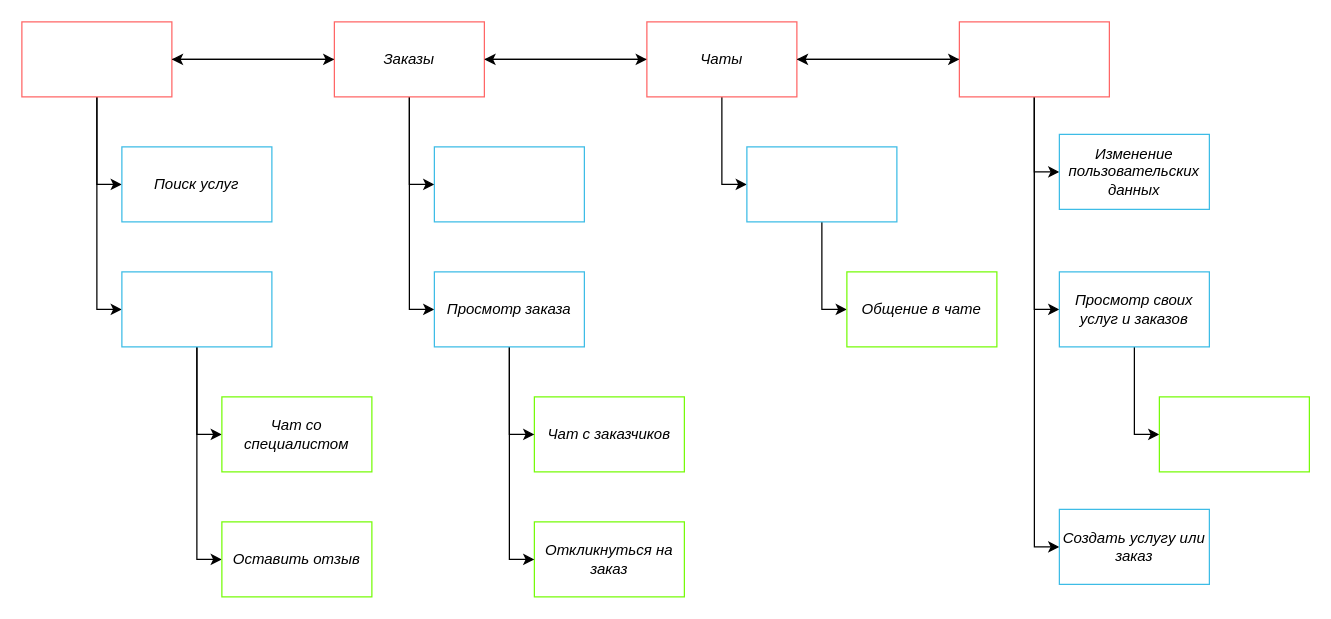
The diagram is 1331 pixels wide and 619 high, and some of its shapes have lost their labels. The shapes that lost their labels are listed below. From the top down, each one's centre as x and y in pixels, then its label:
At pixel 96 59: "Услуги".
At pixel 1033 59: "Мой профиль".
At pixel 508 184: "Поиск заказов".
At pixel 821 184: "Выбор чата".
At pixel 196 309: "Просмотр услуги".
At pixel 1233 434: "Изменение/удаление услуги или заказа".
